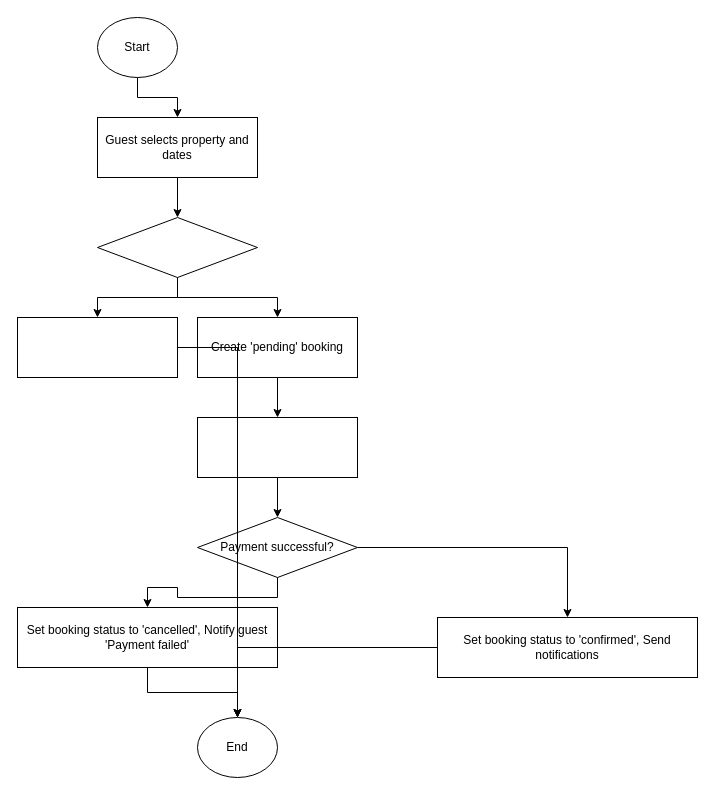
Some shapes in this 715 by 795 pixel diagram are drawn without their labels. The box of each missing label's shape, as (x1, y1, x2, y2) in pixels:
Is property available for selected dates?: (96, 216, 258, 278)
Notify guest 'Dates not available': (16, 316, 178, 378)
Proceed to payment: (196, 416, 358, 478)
